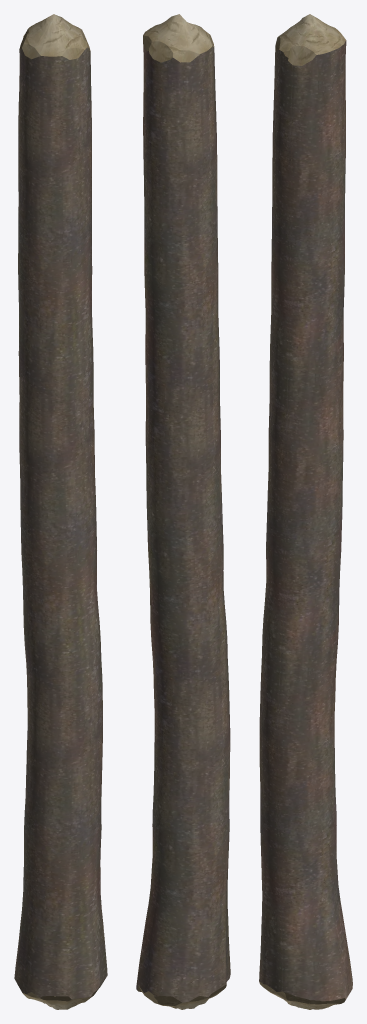
3 views of the same model, side by side, from view 1: azimuth 90°, elevation 25°; view 2: azimuth 150°, elevation 25°; view 3: azimuth 330°, elevation 25° (orthographic).
Parts seen in each view (by area): view 1: SM_BM_Ash_Tree_03_tree_quarters_bottom_LOD0; view 2: SM_BM_Ash_Tree_03_tree_quarters_bottom_LOD0; view 3: SM_BM_Ash_Tree_03_tree_quarters_bottom_LOD0.
Boxes of the visible parts, x1,y1,x2,y2 form: SM_BM_Ash_Tree_03_tree_quarters_bottom_LOD0: (14,14,107,1009); SM_BM_Ash_Tree_03_tree_quarters_bottom_LOD0: (136,14,230,1009); SM_BM_Ash_Tree_03_tree_quarters_bottom_LOD0: (259,14,352,1009).
Size of the model in its own units: 0.5918 by 6.81 by 0.5785.
Materials: 1 (1 with a texture image).
